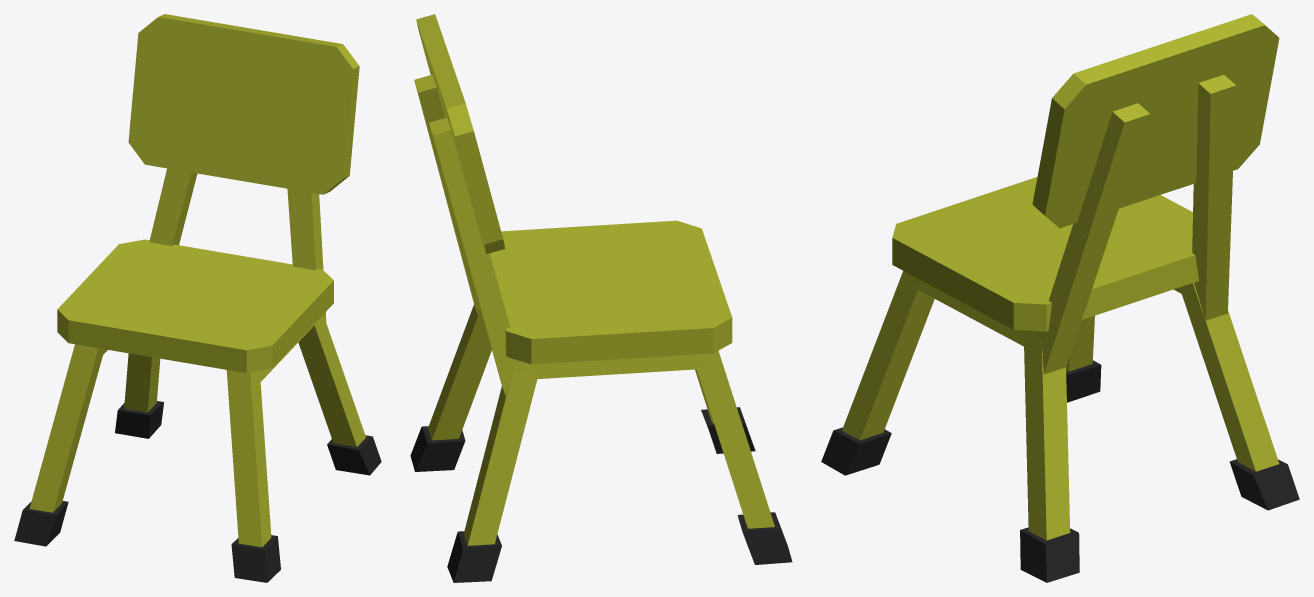
File: ghe5.fbx
3 renders of one model, left to right at view 1: azimuth 30°, elevation 25°; view 2: azimuth 150°, elevation 25°; view 3: azimuth 270°, elevation 25°, orthographic. The views are drawn at different scales.
Visible parts, largest first — view 1: ghe5; view 2: ghe5; view 3: ghe5.
Boxes of the visible parts, box(x1,y1,x2,y2) form: ghe5: box(14, 14, 381, 582); ghe5: box(410, 14, 792, 582); ghe5: box(821, 14, 1299, 582).
Bounding box in the file's own units: 142 × 159 × 140.
